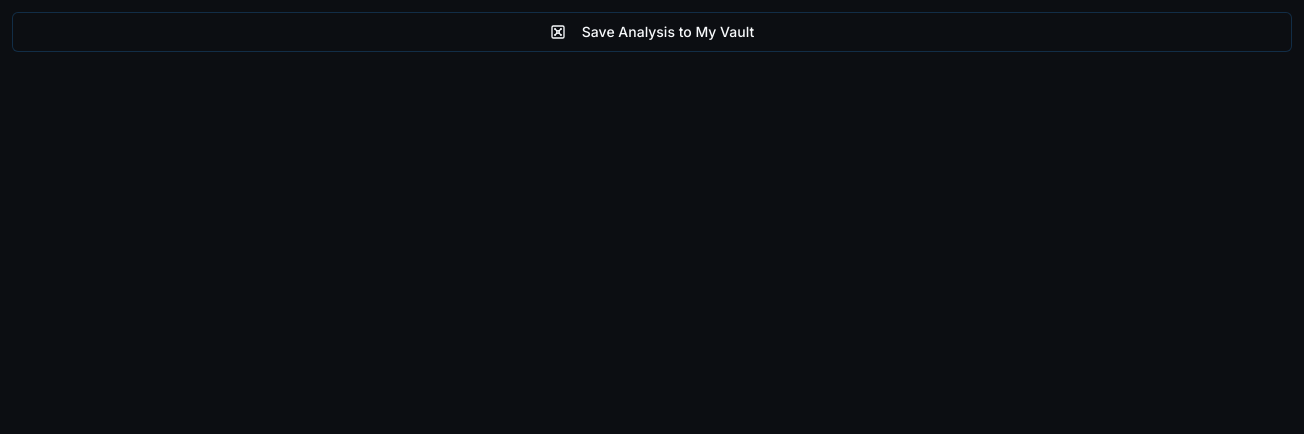
Test: ClaimVaultSyncButton › Form Rendering › expands compact variant to show form on click
Click the button "Save Analysis to My Vault" at coordinates (652, 32), box x1=12 y1=12 x2=1292 y2=52
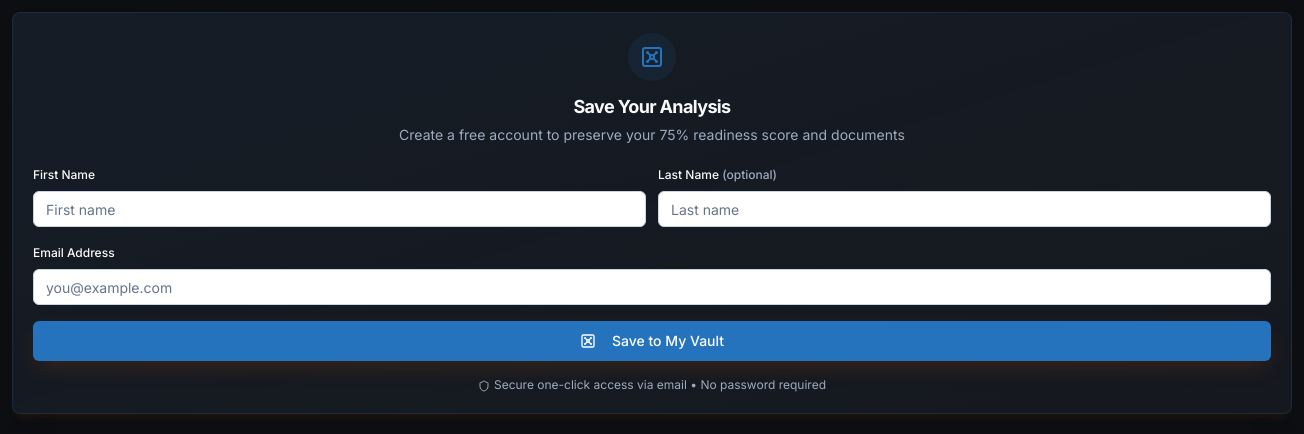
Expected: the field labelled "Email Address" is shown, x1=33 y1=269 x2=1271 y2=305
